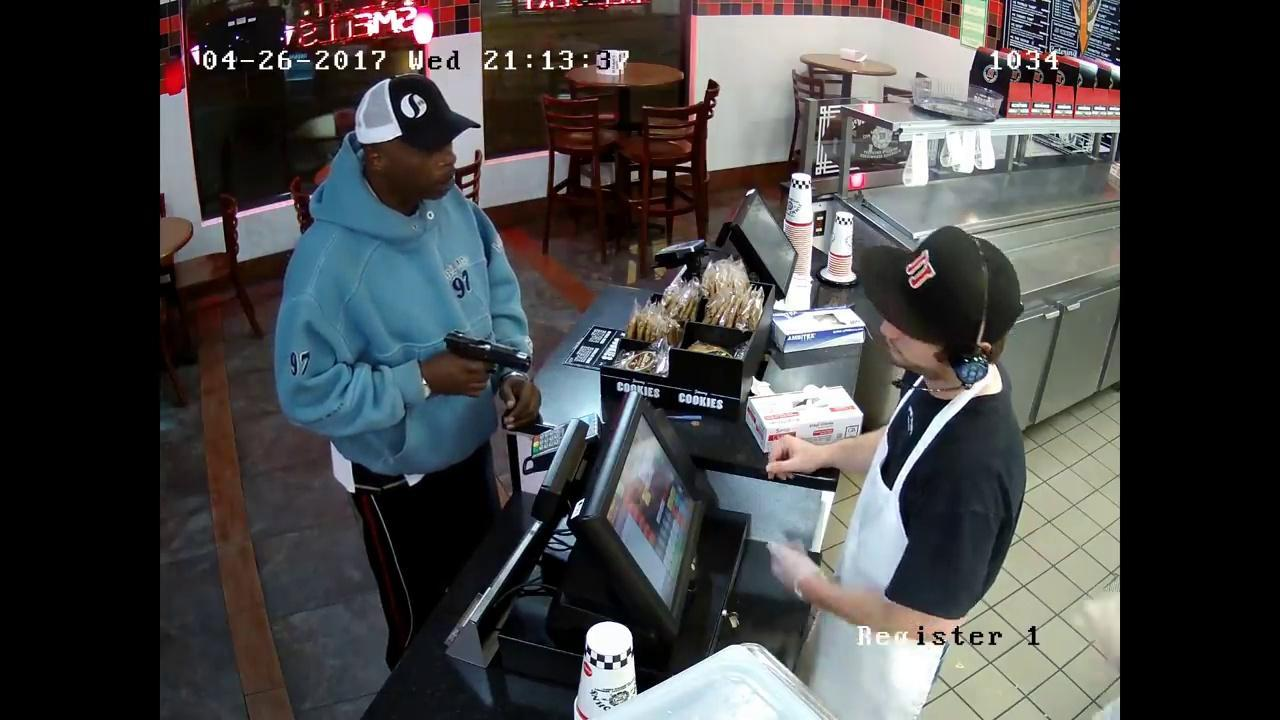Guns: (422, 307, 544, 403)
